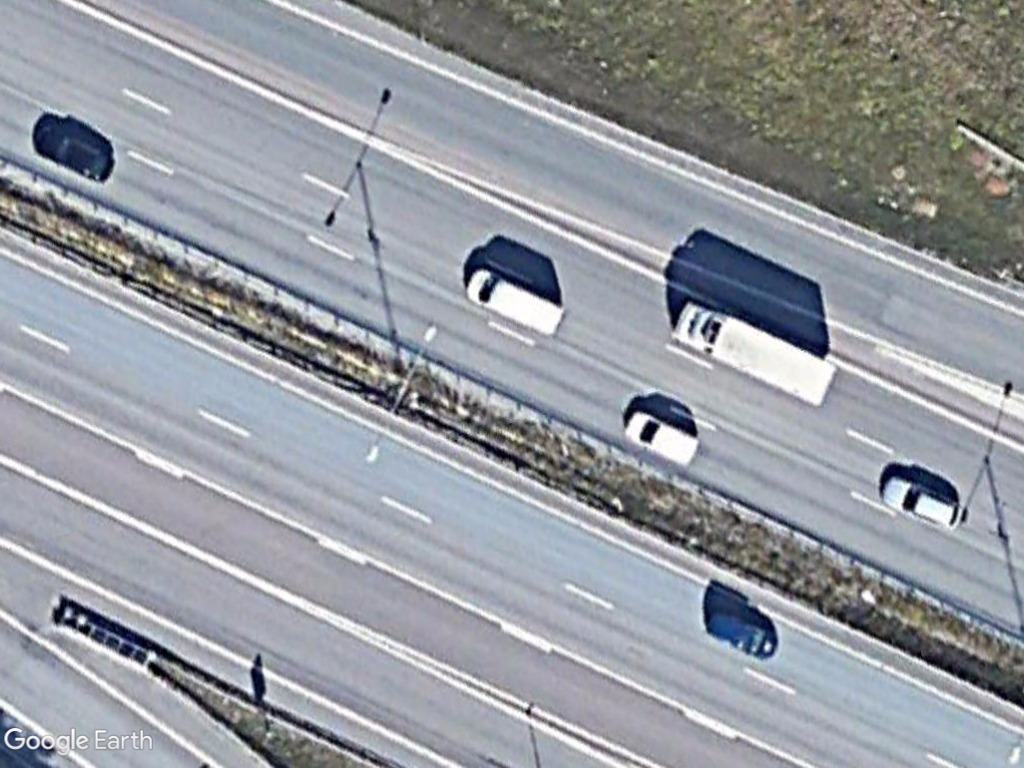car: (877, 469, 975, 537), (24, 117, 121, 184), (699, 603, 781, 664)
truck: (666, 296, 840, 411)
van: (458, 263, 573, 343), (616, 402, 707, 469)
